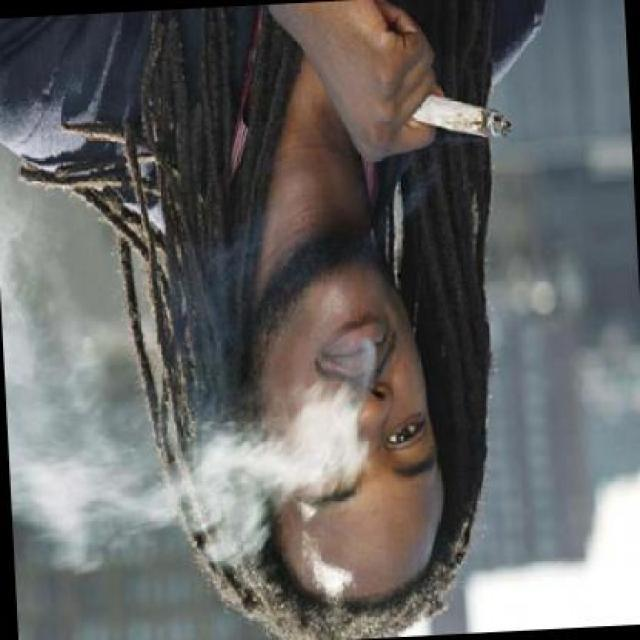rokok: (402, 84, 514, 144)
